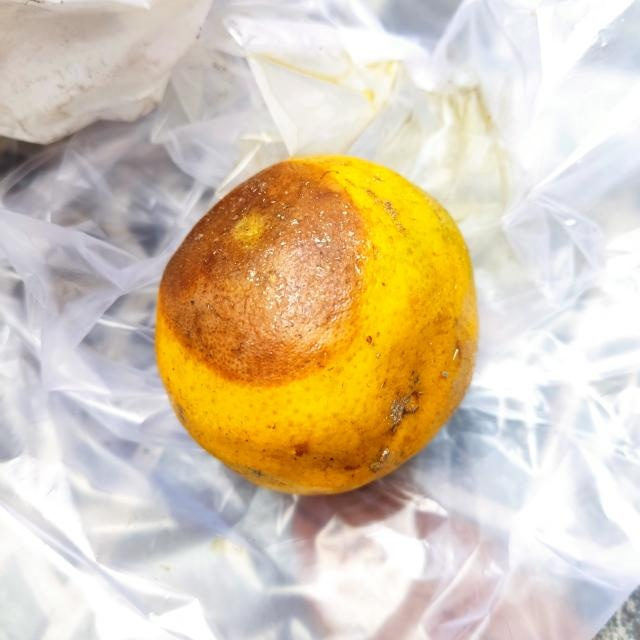agrume: (155, 151, 480, 497)
